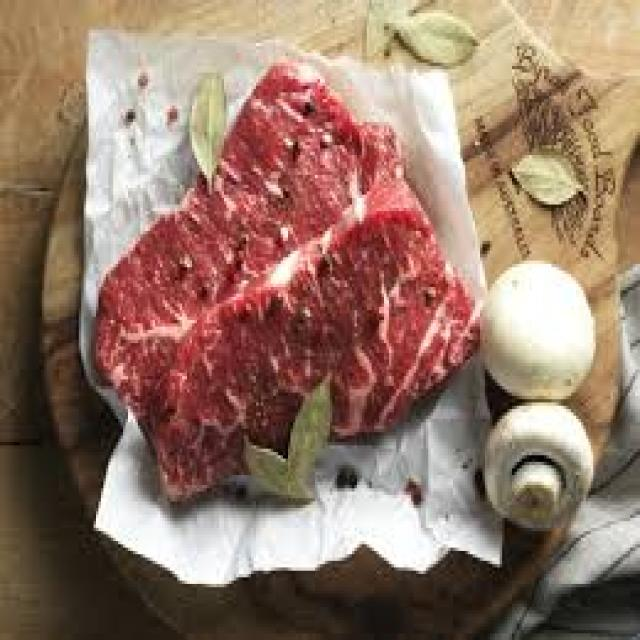Beef: (145, 177, 480, 503)
